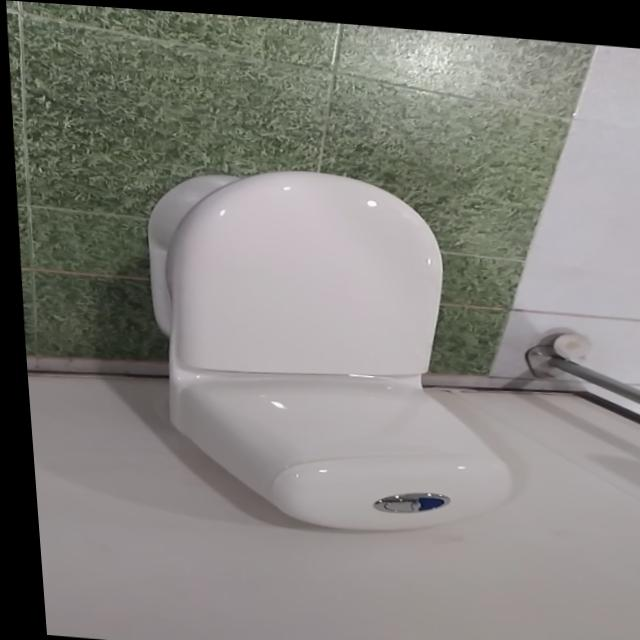toilet: (132, 154, 515, 538)
